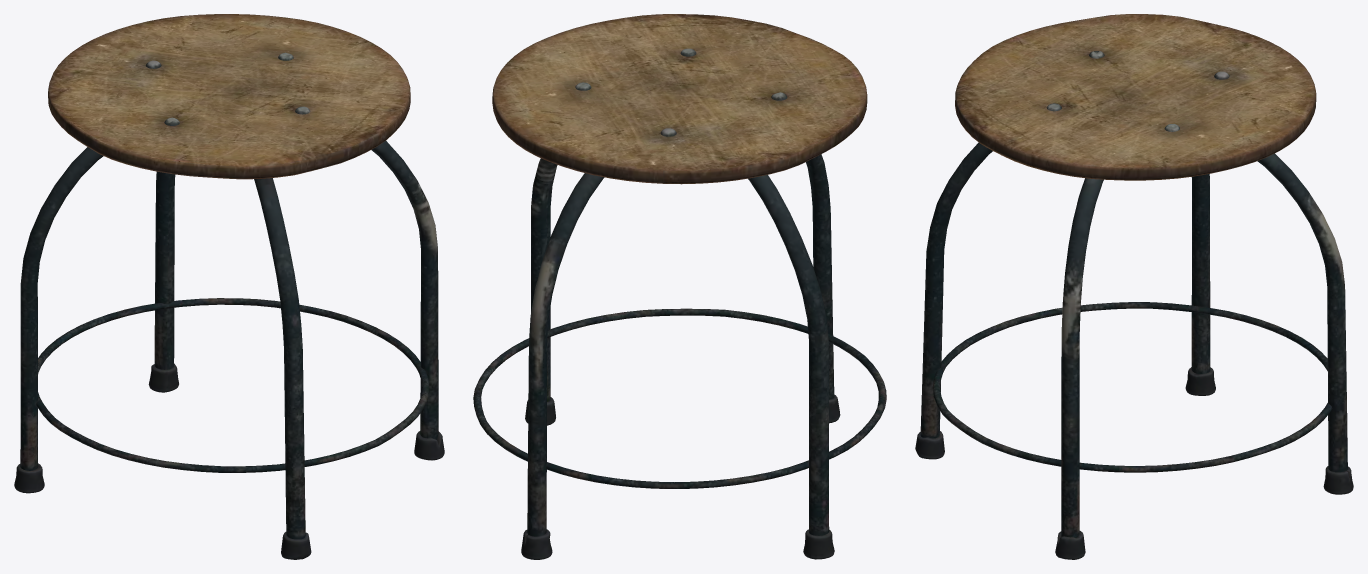
File: counter-stool.c4a5eab031.glb
The picture shows the model from 3 angles, left to right: view 1: azimuth 30°, elevation 25°; view 2: azimuth 150°, elevation 25°; view 3: azimuth 270°, elevation 25°; orthographic projection. The views are drawn at different scales.
Parts seen in each view (by area): view 1: metal_stool_02; view 2: metal_stool_02; view 3: metal_stool_02.
Boxes of the visible parts, box(x1,y1,x2,y2) form: metal_stool_02: box(14, 14, 444, 559); metal_stool_02: box(473, 14, 886, 559); metal_stool_02: box(915, 14, 1353, 559).
Bounding box in the file's own units: 0.4481 × 0.4581 × 0.4731.
Materials: 1 (1 with a texture image).
